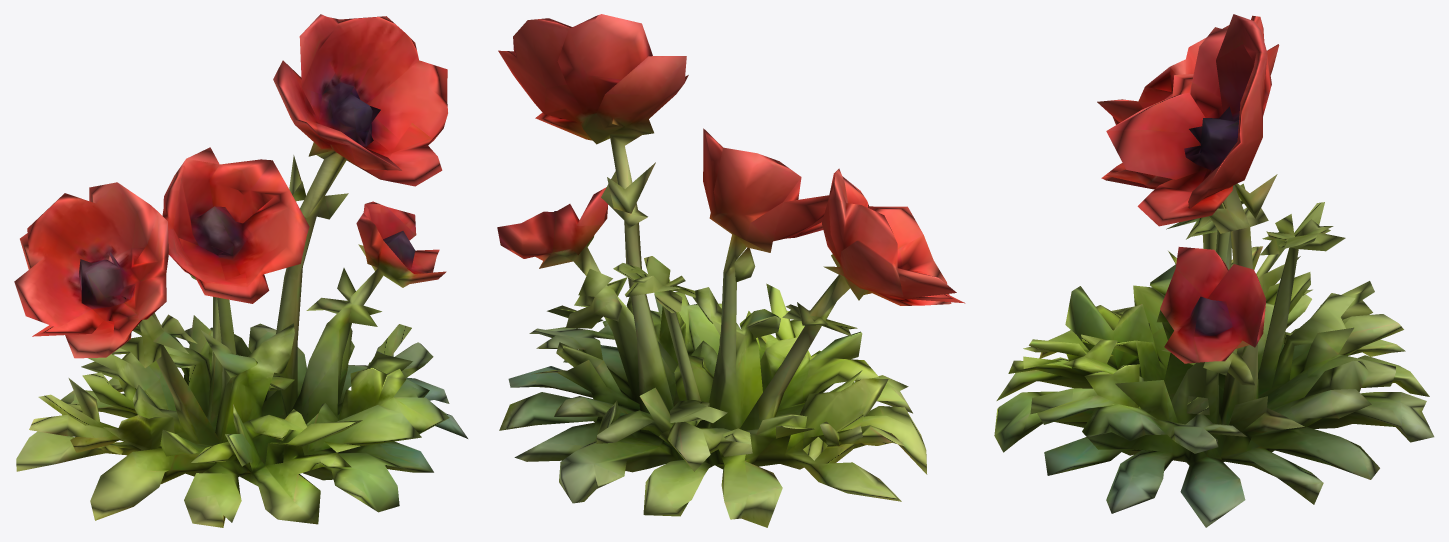
The model's file is anemone.glb.
3 renders of one model, left to right at view 1: azimuth 30°, elevation 25°; view 2: azimuth 150°, elevation 25°; view 3: azimuth 270°, elevation 25°, orthographic. The views are drawn at different scales.
Parts seen in each view (by area): view 1: tripo_node_874cfdf4-381b-4a44-bd74-28b0ee694431; view 2: tripo_node_874cfdf4-381b-4a44-bd74-28b0ee694431; view 3: tripo_node_874cfdf4-381b-4a44-bd74-28b0ee694431.
Part boxes in pixels (x1=…): tripo_node_874cfdf4-381b-4a44-bd74-28b0ee694431: x1=14, y1=14, x2=467, y2=527; tripo_node_874cfdf4-381b-4a44-bd74-28b0ee694431: x1=497, y1=14, x2=965, y2=527; tripo_node_874cfdf4-381b-4a44-bd74-28b0ee694431: x1=994, y1=14, x2=1434, y2=527.
Bounding box in the file's own units: 1 × 0.9039 × 0.7878.
1 material, 1 textured.
